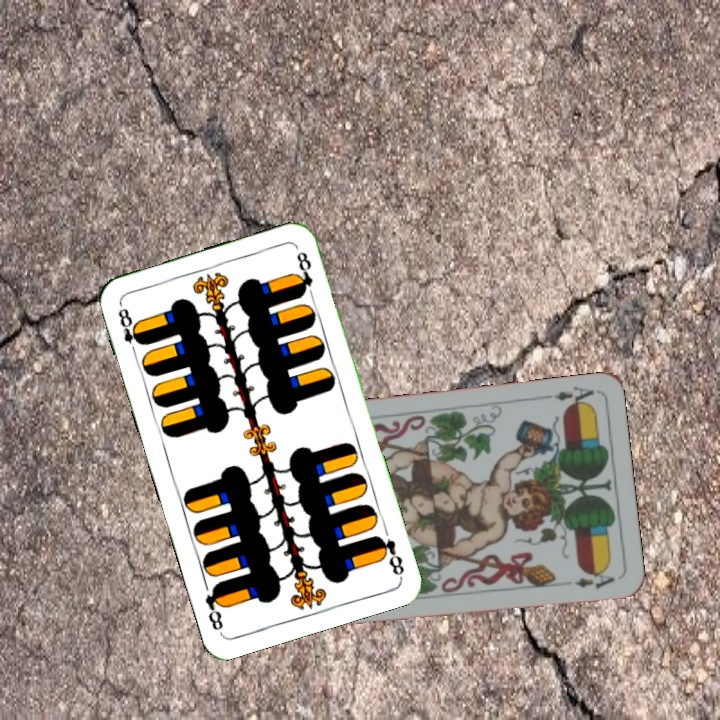E8: (114, 300, 146, 358), (372, 531, 407, 580)
EA: (539, 382, 597, 410)
